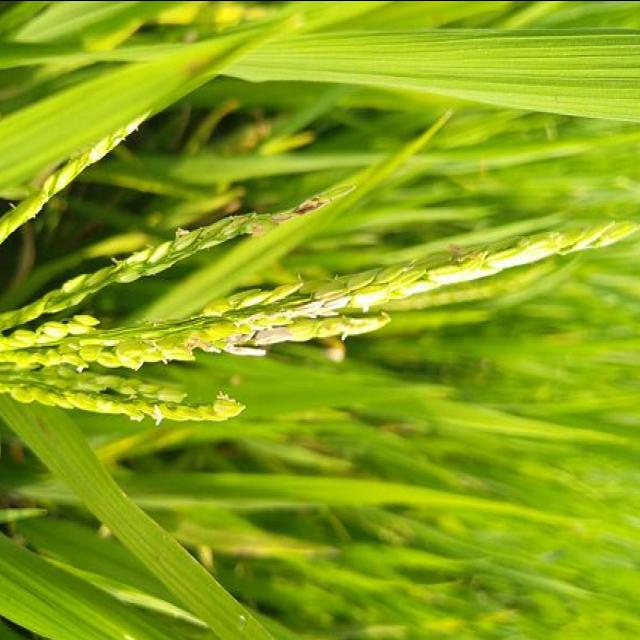Panicle Blight: (185, 224, 637, 357), (174, 184, 355, 250)
